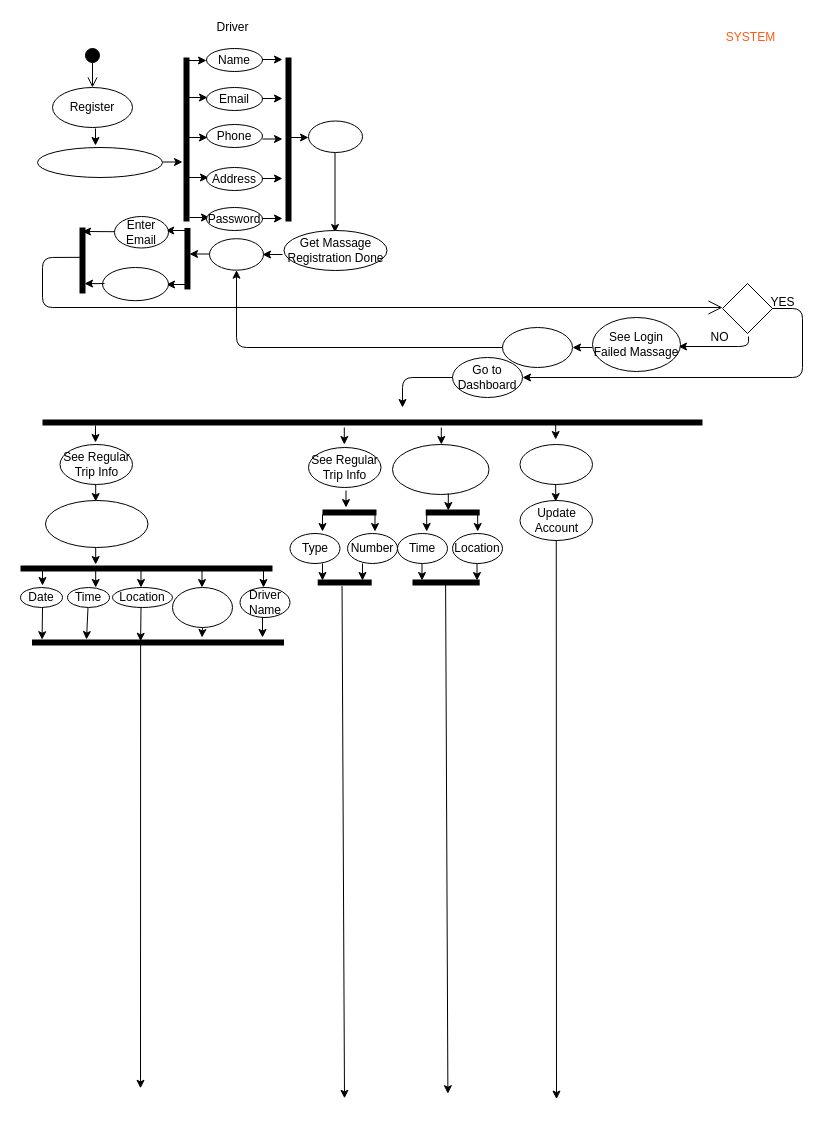
This 828x1125 diagram has some shape labels left out. Here are the shapes that lost their labels. From the top down, the centre of each, then its label:
point (335, 136): Enter Submit
point (99, 162): Enter Registration Info
point (236, 254): Click at Login
point (135, 283): Enter Password
point (747, 308): Is Valid
point (537, 347): Input Info Again
point (440, 469): Get Notification if Any Urgent Trip
point (555, 464): View Account
point (96, 524): Click On Regular Trip Info
point (202, 607): Transport No
